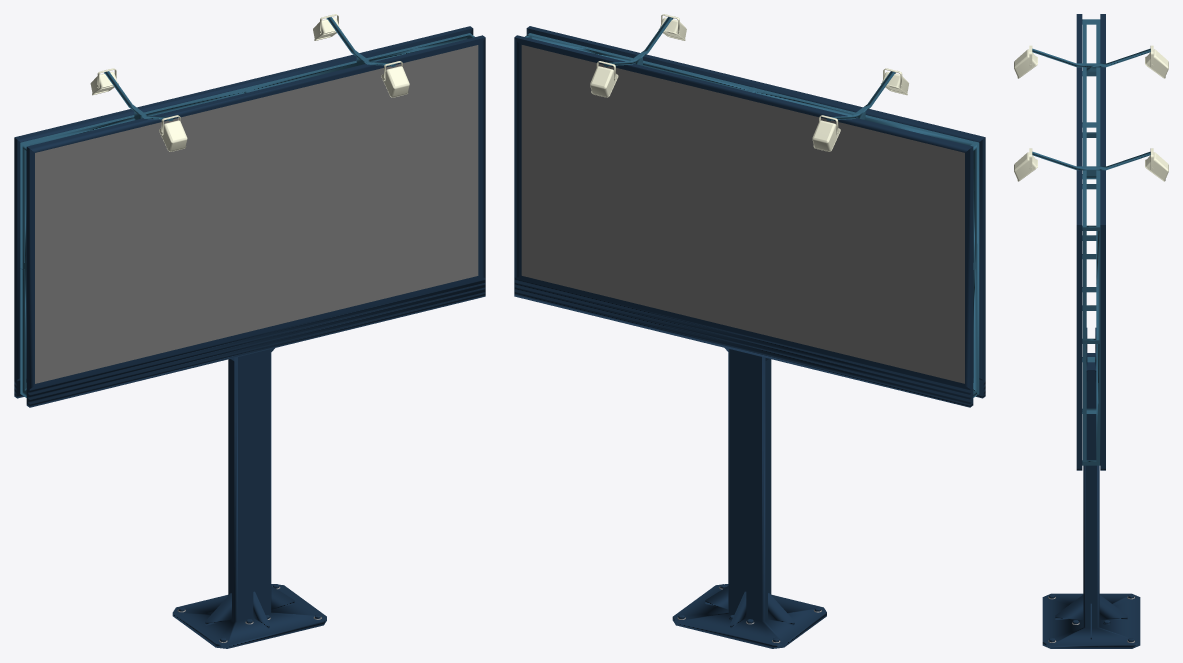
The model's file is Billboard 01.obj.
3 views of the same model, side by side, from view 1: azimuth 30°, elevation 25°; view 2: azimuth 150°, elevation 25°; view 3: azimuth 270°, elevation 25° (orthographic). The views are drawn at different scales.
Visible parts, largest first — view 1: Box02.Box01, Box03, Box02, Rectangle8; view 2: Box02, Box03, Box02.Box01, Rectangle8; view 3: Box03, Rectangle8, Box02.Box01, Box02, Rectangle0.Rectangle6, Rectangle0.Rectangle7, Rectangle9, Rectangle9.Rectangl14, Rectangle9.Rectangl15, Rectangle9.Rectangl20.
Boxes of the visible parts, x1=… form: Box02.Box01: x1=26, y1=35, x2=485, y2=407; Box03: x1=172, y1=349, x2=326, y2=648; Box02: x1=14, y1=26, x2=473, y2=398; Rectangle8: x1=20, y1=17, x2=474, y2=397; Box02: x1=514, y1=35, x2=973, y2=407; Box03: x1=672, y1=349, x2=826, y2=648; Box02.Box01: x1=526, y1=26, x2=985, y2=398; Rectangle8: x1=525, y1=17, x2=979, y2=397; Box03: x1=1042, y1=353, x2=1140, y2=648; Rectangle8: x1=1032, y1=19, x2=1150, y2=465; Box02.Box01: x1=1076, y1=14, x2=1082, y2=470; Box02: x1=1100, y1=14, x2=1105, y2=470; Rectangle0.Rectangle6: x1=1099, y1=595, x2=1127, y2=619; Rectangle0.Rectangle7: x1=1055, y1=595, x2=1083, y2=619; Rectangle9: x1=1145, y1=152, x2=1168, y2=181; Rectangle9.Rectangl14: x1=1014, y1=152, x2=1037, y2=181; Rectangle9.Rectangl15: x1=1145, y1=49, x2=1168, y2=78; Rectangle9.Rectangl20: x1=1014, y1=49, x2=1037, y2=78.
Size of the model in its own units: 155992 by 180266 by 48359.
